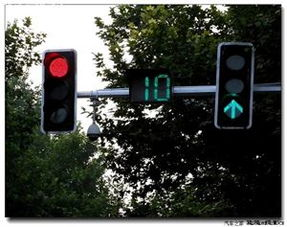green: (216, 40, 253, 131)
red: (41, 48, 77, 133)
